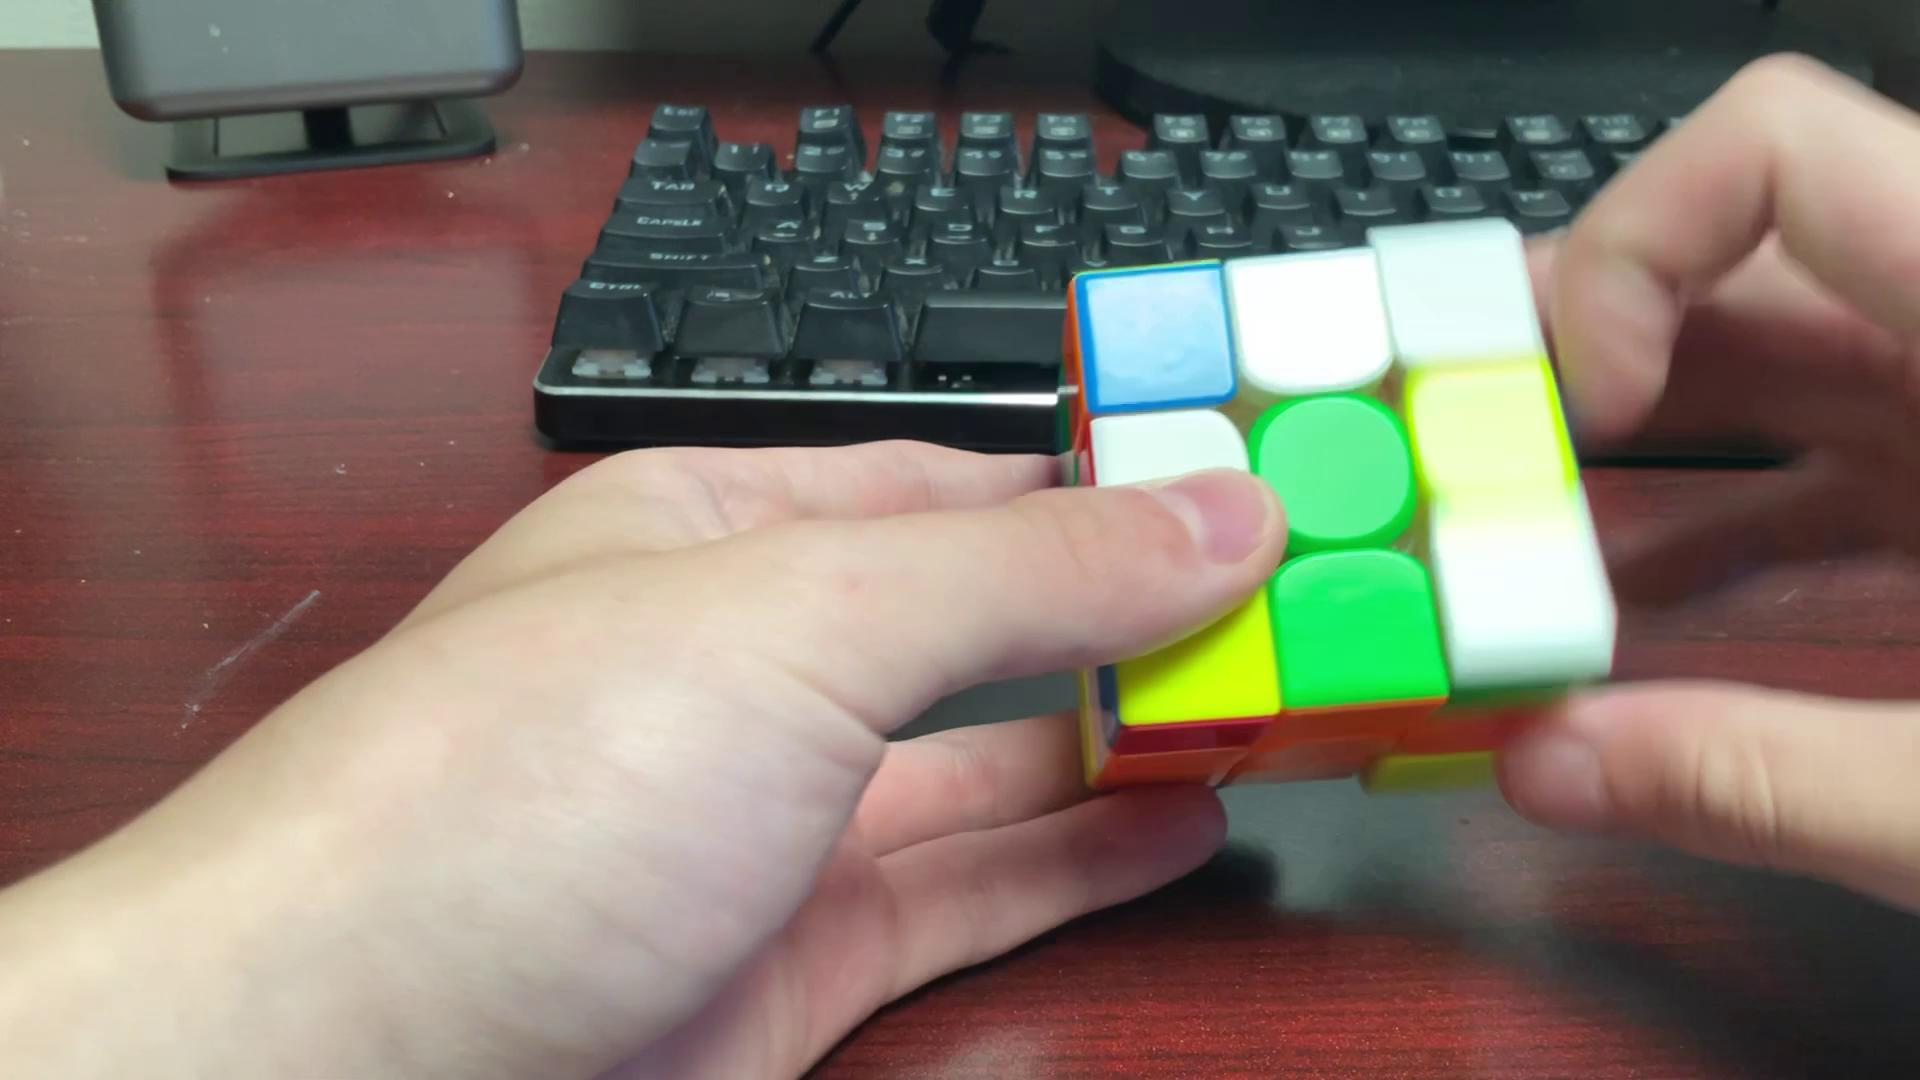Rubiks-Cube: (1060, 216, 1646, 798)
